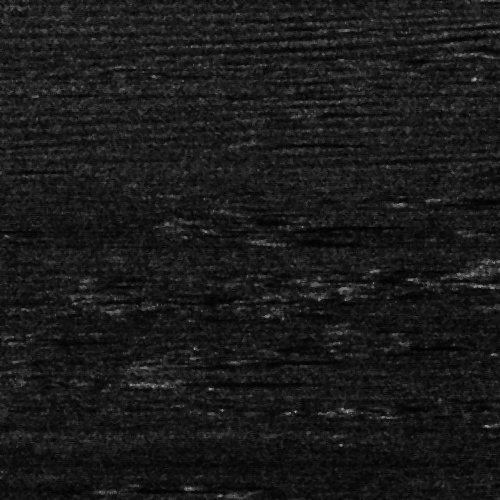object: (188, 354, 323, 365), (106, 358, 241, 369), (89, 376, 204, 385), (456, 47, 500, 54), (266, 222, 319, 227), (234, 139, 287, 144), (413, 196, 466, 201), (94, 485, 135, 490), (294, 109, 325, 114)
shadow: (256, 354, 420, 365), (147, 376, 302, 385), (174, 358, 268, 369), (115, 485, 270, 490), (261, 139, 391, 144), (293, 222, 392, 227), (310, 109, 377, 114), (439, 196, 500, 201), (483, 47, 500, 54)
